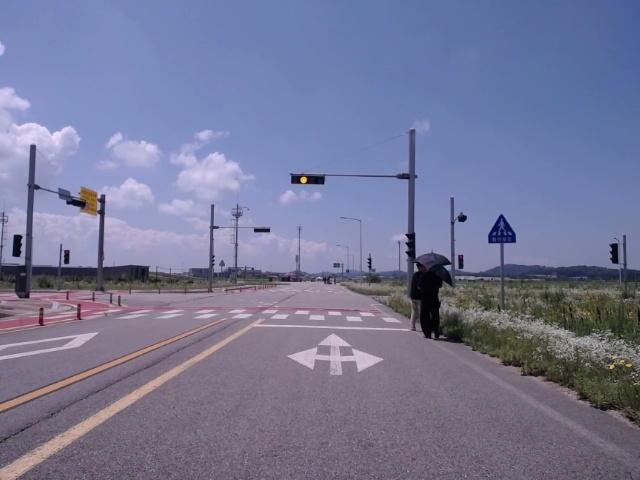orange_4: (291, 175, 325, 184)
